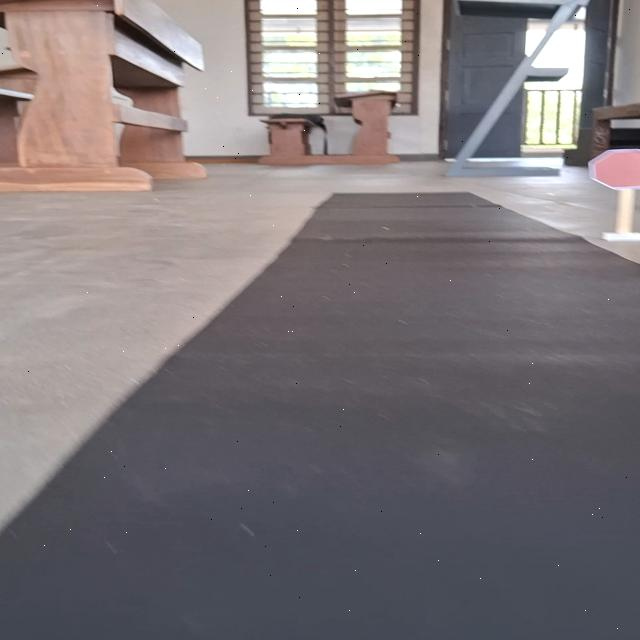Stop: (586, 148, 640, 192)
